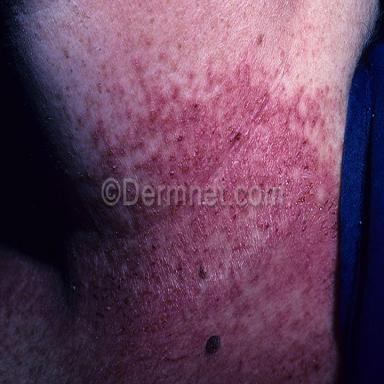Darier_s-Disease: (68, 37, 351, 384)
